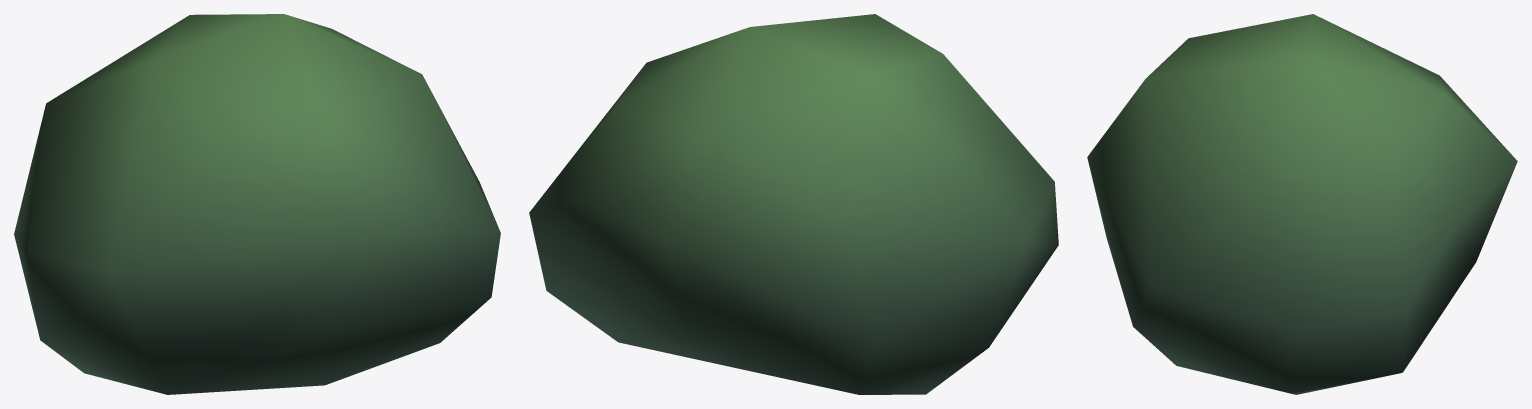
File: Bush_lvl2_03.fbx
3 views of the same model, side by side, from view 1: azimuth 30°, elevation 25°; view 2: azimuth 150°, elevation 25°; view 3: azimuth 270°, elevation 25° (orthographic). The views are drawn at different scales.
Parts seen in each view (by area): view 1: Bush3; view 2: Bush3; view 3: Bush3.
Boxes of the visible parts, x1,y1,x2,y2 form: Bush3: (14, 14, 500, 394); Bush3: (529, 14, 1058, 394); Bush3: (1087, 14, 1517, 394).
Size of the model in its own units: 1.05 by 0.6976 by 0.928.
